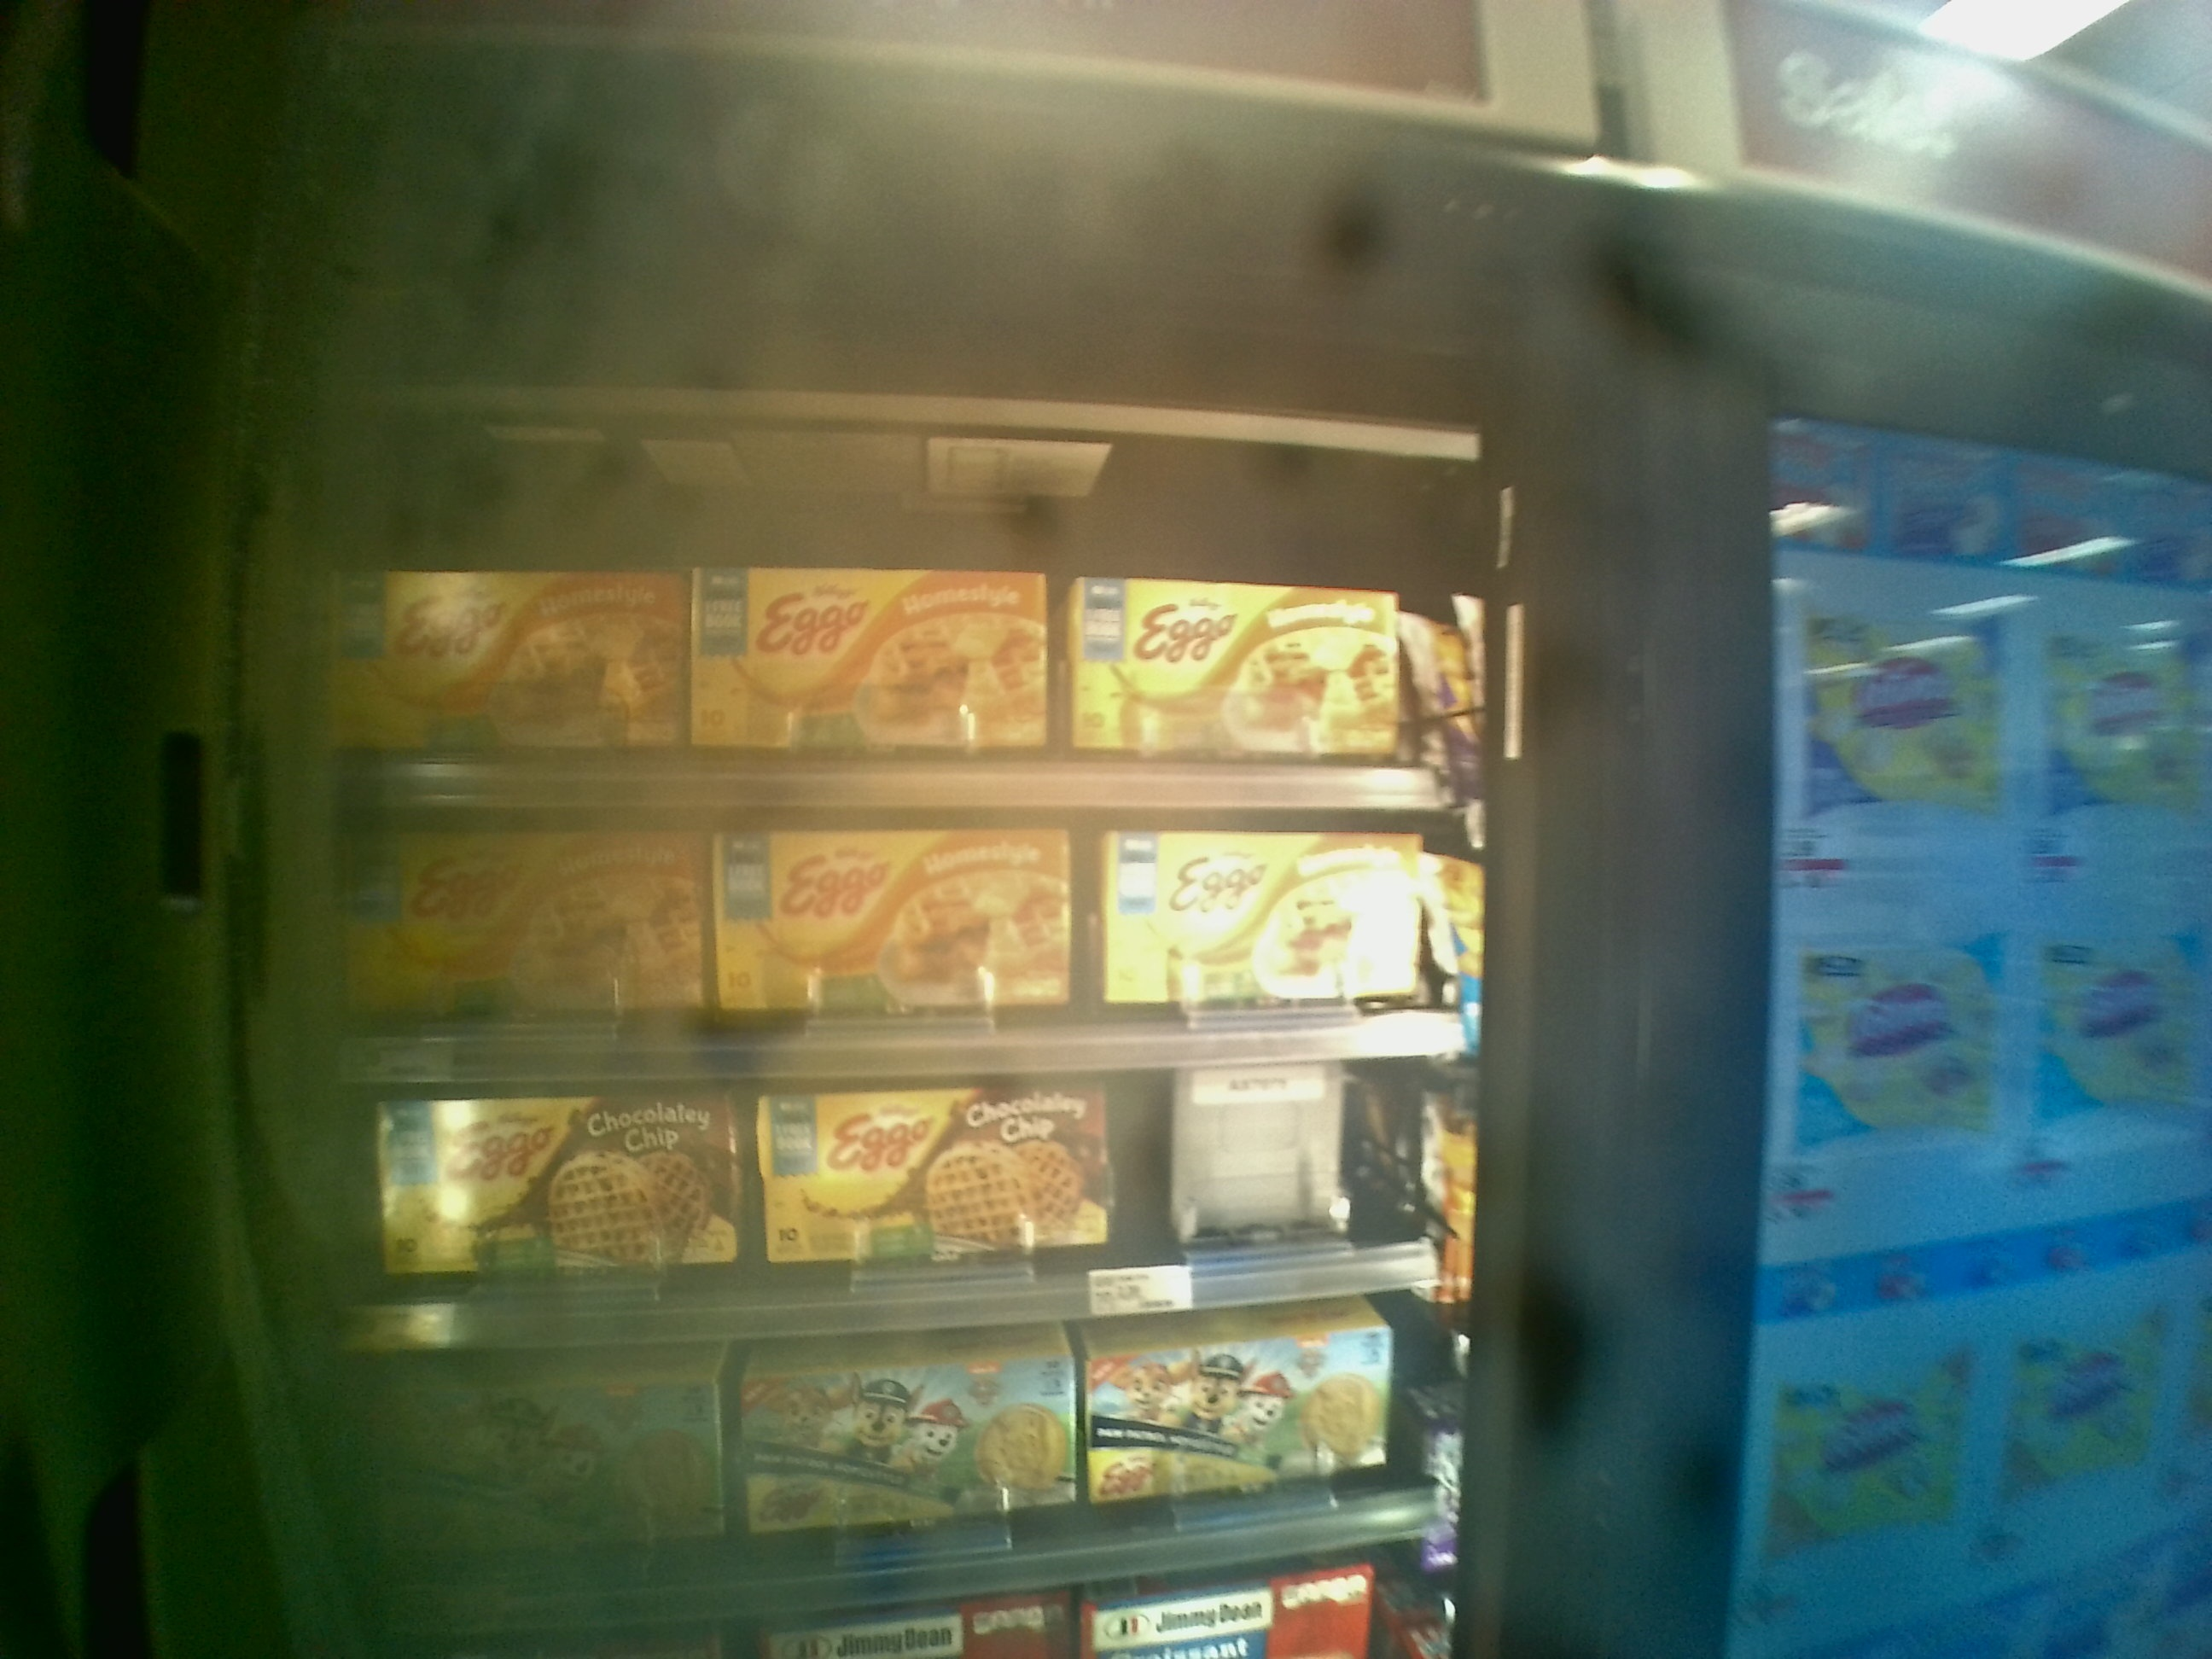shelf: (301, 505, 1475, 817), (296, 812, 1474, 1079), (294, 1080, 1480, 1342)
